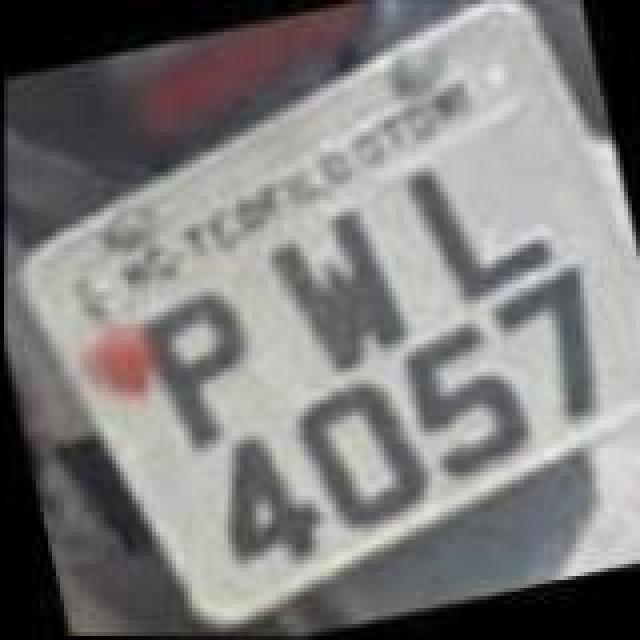4: (190, 418, 334, 582)
5: (390, 308, 542, 492)
7: (486, 252, 626, 436)
L: (396, 136, 564, 312)
O: (278, 366, 442, 542)
P: (130, 274, 278, 454)
W: (258, 192, 422, 380)
